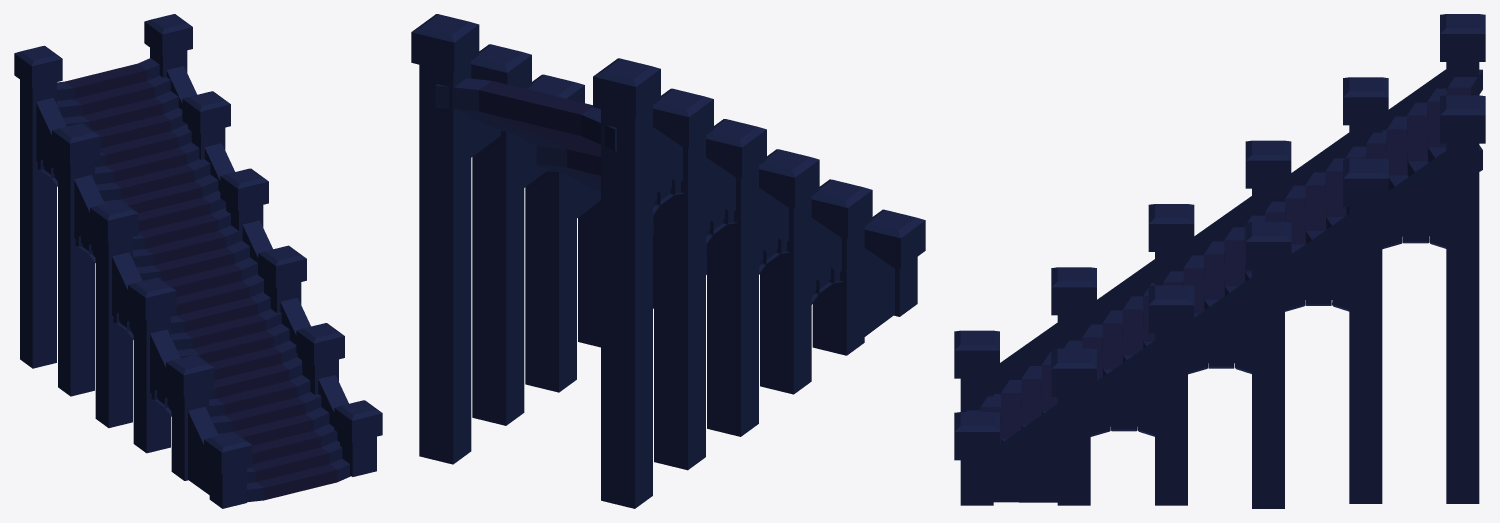
Rendered from ladder.fbx.
3 views of the same model, side by side, from view 1: azimuth 30°, elevation 25°; view 2: azimuth 150°, elevation 25°; view 3: azimuth 270°, elevation 25° (orthographic). The views are drawn at different scales.
Parts seen in each view (by area): view 1: Cube.026; view 2: Cube.026; view 3: Cube.026.
Boxes of the visible parts, <box> form: Cube.026: <box>14,14,382,508</box>; Cube.026: <box>411,14,925,508</box>; Cube.026: <box>954,14,1485,508</box>.
Size of the model in its own units: 907 by 1677 by 2024.
